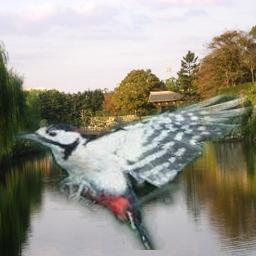Woodpecker: (12, 92, 256, 250)
